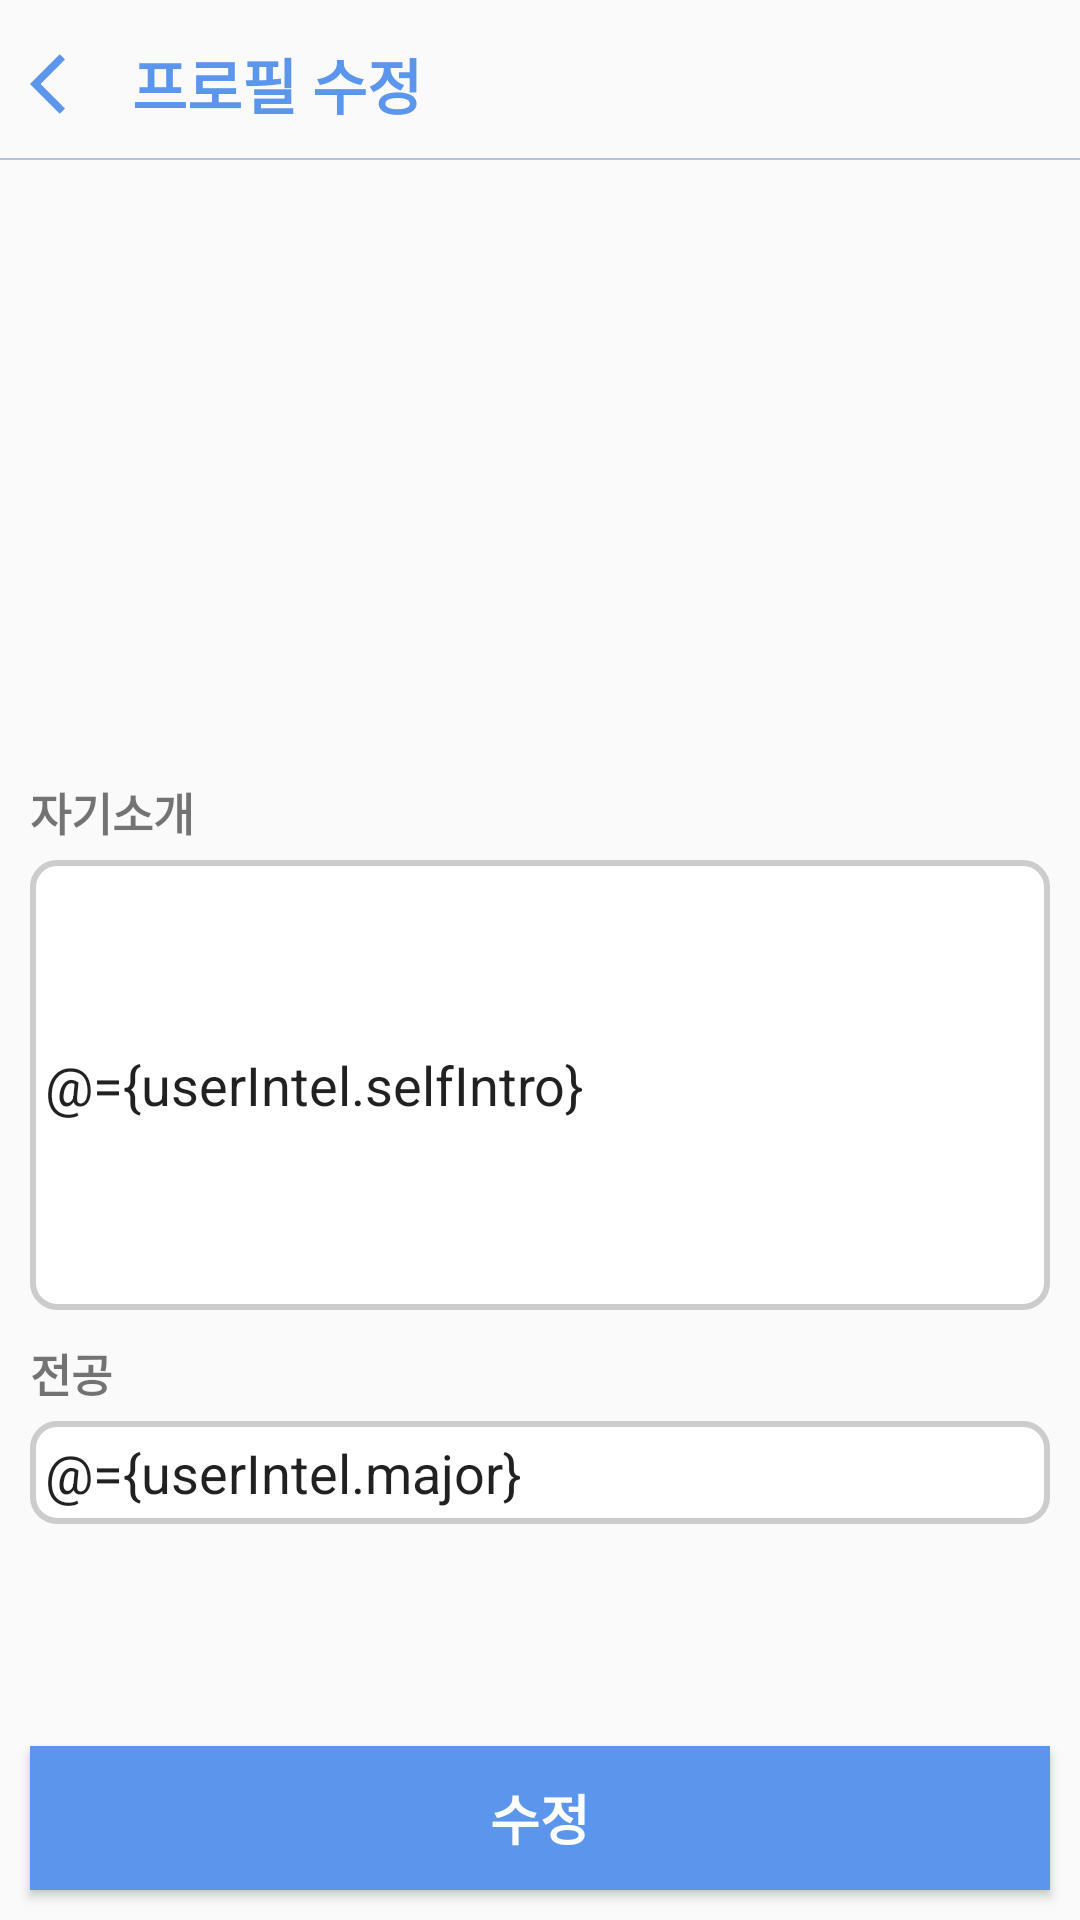

Icon bounding boxes for this 1080×1920 phone screenshot, format (x1,y1,x2,y2):
arrow back: (30,54,65,114)
